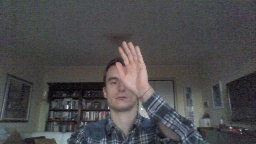Mano_aperta: (114, 38, 149, 96)
